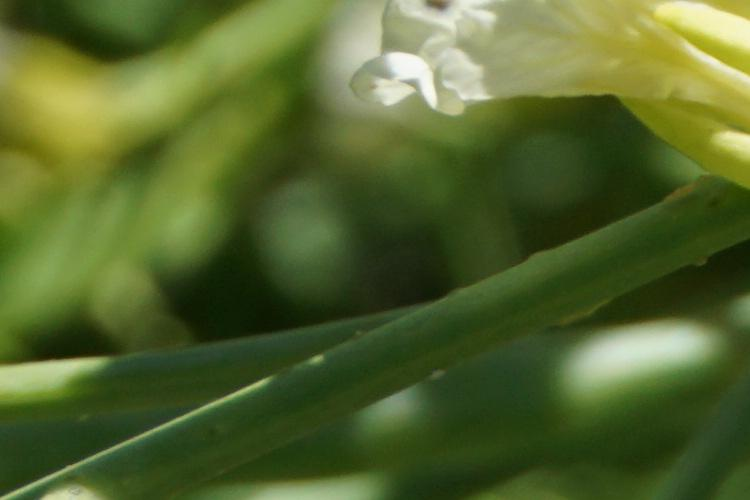white: (364, 11, 736, 150)
